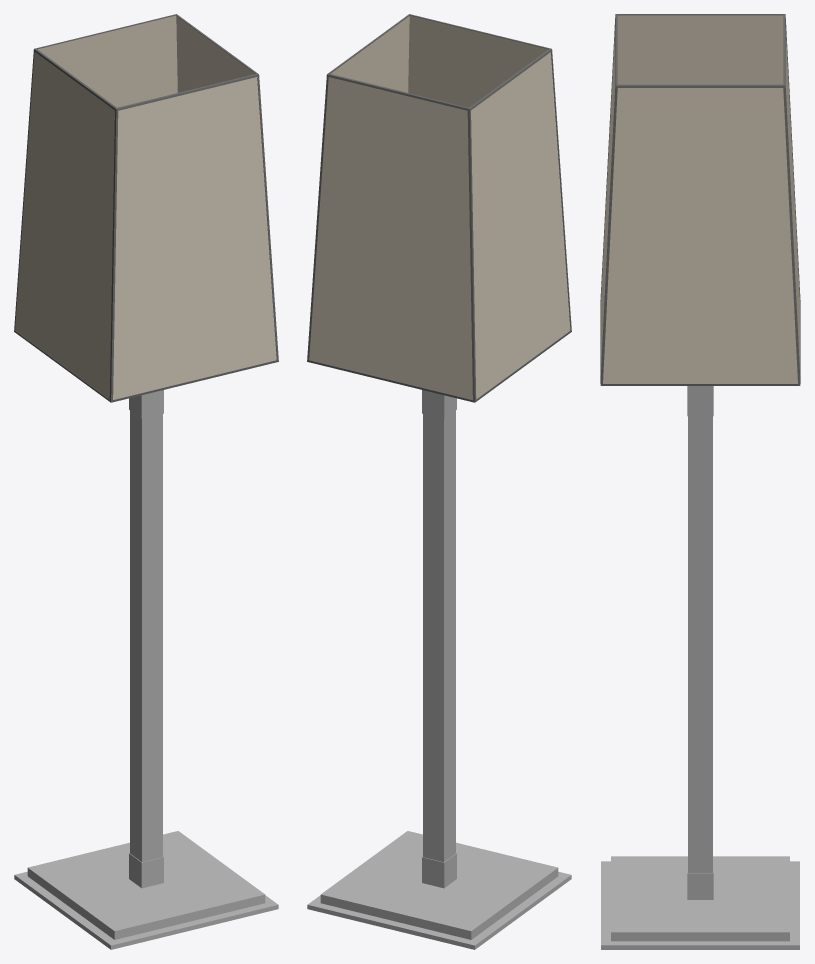
The model's file is Floor Lamp.fbx.
The picture shows the model from 3 angles, left to right: view 1: azimuth 30°, elevation 25°; view 2: azimuth 150°, elevation 25°; view 3: azimuth 270°, elevation 25°; orthographic projection. The views are drawn at different scales.
Visible parts, largest first — view 1: Box02, Box01, Box03; view 2: Box02, Box01, Box03; view 3: Box02, Box01, Box03.
Boxes of the visible parts, x1,y1,x2,y2 form: Box02: (15,15,276,399); Box01: (14,390,278,949); Box03: (14,14,278,402); Box02: (309,15,570,399); Box01: (307,390,571,949); Box03: (307,14,571,402); Box02: (601,15,799,383); Box01: (601,386,799,949); Box03: (600,14,800,385).
Size of the model in its own units: 40.16 by 190 by 40.16.
